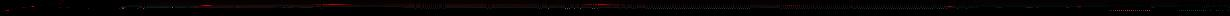Blue cone: (22, 7, 28, 8), (10, 9, 16, 10), (31, 6, 35, 7)
Yellow cone: (1076, 6, 1082, 8)
